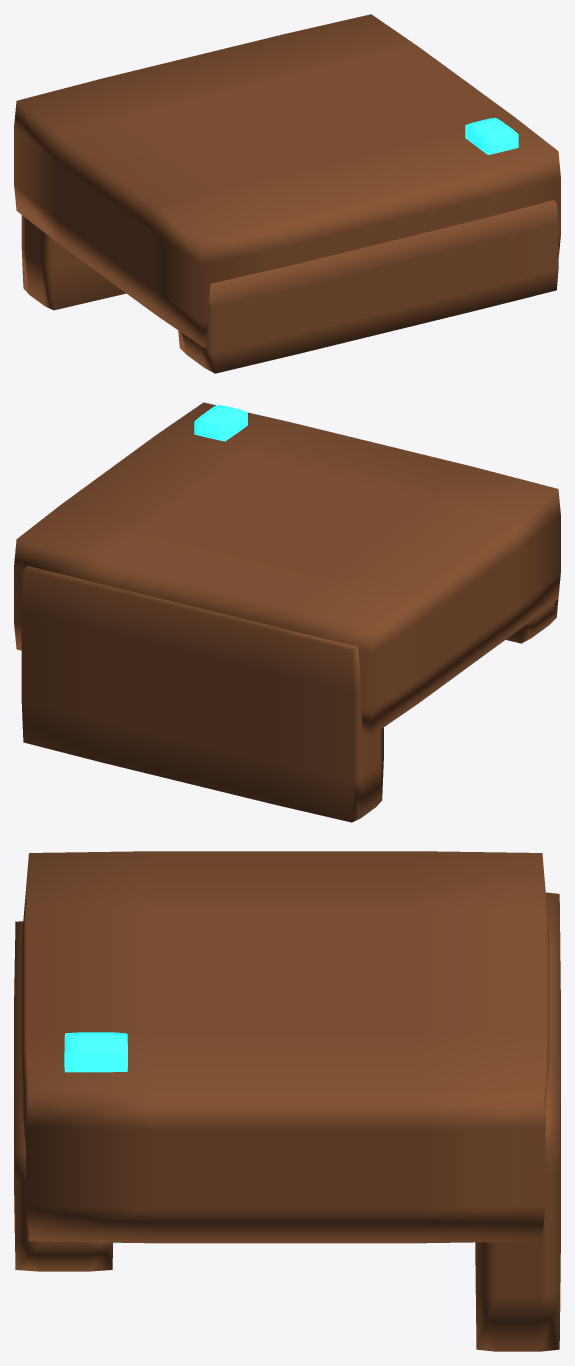
File: hair-cyan-stripe.glb
3 views of the same model, one above another, from view 1: azimuth 30°, elevation 25°; view 2: azimuth 150°, elevation 25°; view 3: azimuth 270°, elevation 25° (orthographic). The views are drawn at different scales.
Parts seen in each view (by area): view 1: HairTop, HairFront, HairBack, Accent; view 2: HairTop, HairBack, Accent, HairFront; view 3: HairTop, HairBack, HairFront, Accent.
Boxes of the visible parts, <box> form: HairTop: <box>14,14,560,347</box>; HairFront: <box>178,200,558,373</box>; HairBack: <box>21,215,126,310</box>; Accent: <box>465,117,518,154</box>; HairTop: <box>14,402,560,735</box>; HairBack: <box>21,566,383,822</box>; Accent: <box>194,404,247,441</box>; HairFront: <box>506,599,558,643</box>; HairTop: <box>21,851,549,1243</box>; HairBack: <box>475,892,560,1351</box>; HairFront: <box>14,921,112,1271</box>; Accent: <box>64,1032,127,1243</box>.
Bounding box in the file's own units: 1.62 × 0.905 × 1.53.
